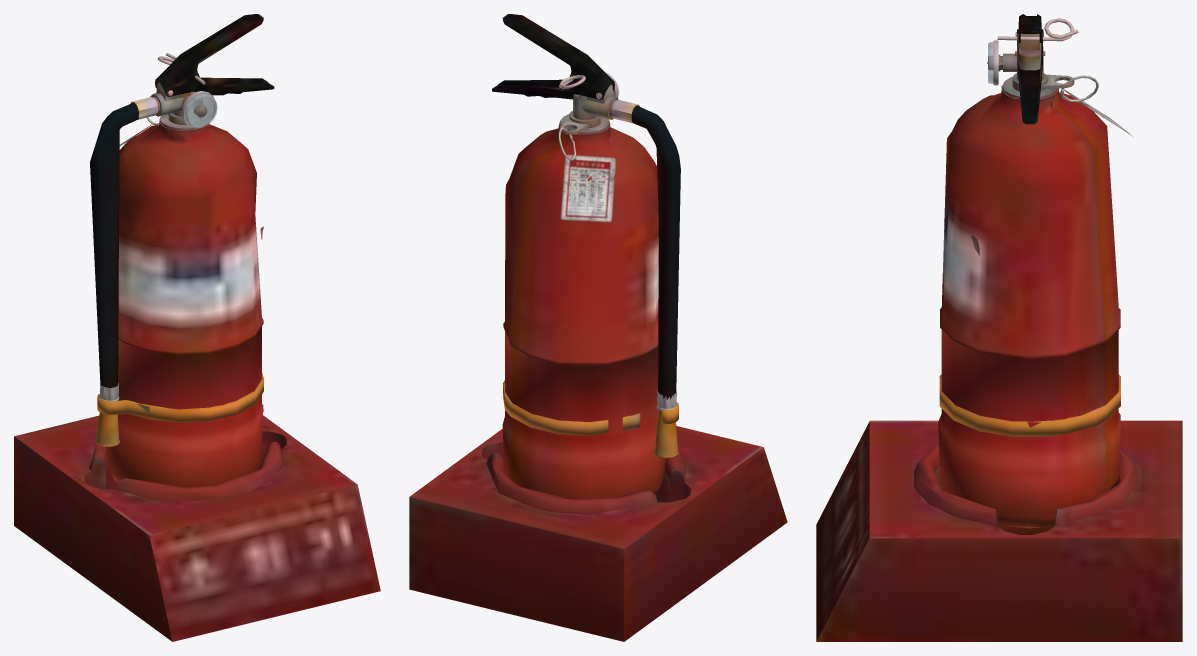
The model's file is korean-fire-extinguisher-01.glb.
3 views of the same model, side by side, from view 1: azimuth 30°, elevation 25°; view 2: azimuth 150°, elevation 25°; view 3: azimuth 270°, elevation 25° (orthographic). The views are drawn at different scales.
Parts seen in each view (by area): view 1: korean_fire_extinguisher_01; view 2: korean_fire_extinguisher_01; view 3: korean_fire_extinguisher_01.
Part boxes in pixels (x1,y1,x2,y2): korean_fire_extinguisher_01: (14, 14, 380, 641); korean_fire_extinguisher_01: (409, 14, 787, 641); korean_fire_extinguisher_01: (816, 14, 1182, 641).
Size of the model in its own units: 0.279 by 0.6591 by 0.3674.
3 materials, 3 textured.
